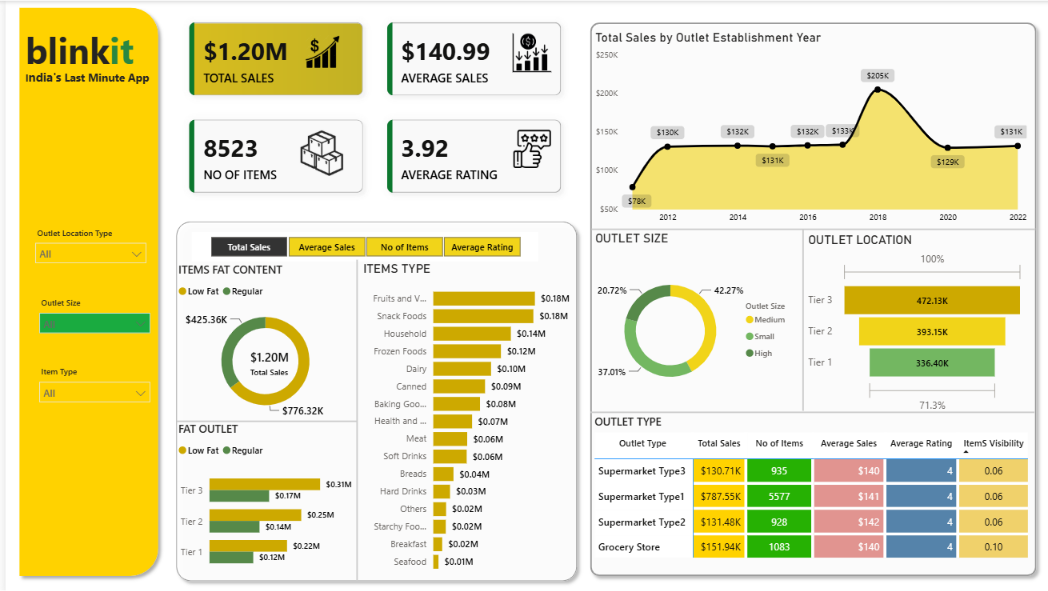

What the dashboard file says about the page in this screenshot:
{"tool":"powerbi","page":{"name":"BLINKIT DASHBOARD","canvas":[1400,800],"ordinal":0},"visuals":[{"type":"shape","box":[10,0,204.3,780],"z":0},{"type":"textbox","box":[22,28,178,80],"z":1000},{"type":"textbox","box":[22,86,192,44],"z":2000},{"type":"cardVisual","fields":{"Data":["BlinkIT Grocery Data.Total Sales","BlinkIT Grocery Data.Average Sales","BlinkIT Grocery Data.No of Items","BlinkIT Grocery Data.Average Rating"]},"box":[217.2,0,557.6,286.9],"z":3000},{"type":"shape","box":[220,287.5,555,500],"z":4000},{"type":"slicer","fields":{"Values":["METRICES.METRICES"]},"box":[250,310,465,40],"z":5000},{"type":"donutChart","title":"ITEMS FAT CONTENT","fields":{"Y":["BlinkIT Grocery Data.Total Sales"],"Category":["BlinkIT Grocery Data.Item Fat Content"]},"box":[226.5,349.9,244,218.5],"z":6000},{"type":"cardVisual","fields":{"Data":["BlinkIT Grocery Data.Total Sales"]},"box":[298.6,451.4,111.4,67.1],"z":7000},{"type":"clusteredBarChart","title":"FAT OUTLET","fields":{"Y":["BlinkIT Grocery Data.Total Sales"],"Series":["BlinkIT Grocery Data.Item Fat Content"],"Category":["BlinkIT Grocery Data.Outlet Location Type"]},"box":[226.5,563,245.3,214.5],"z":8000},{"type":"shape","box":[229.2,549.6,242.6,28.2],"z":9000},{"type":"shape","box":[462.5,347.2,17.4,430.3],"z":10000},{"type":"barChart","title":"ITEMS TYPE","fields":{"Y":["BlinkIT Grocery Data.Total Sales"],"Category":["BlinkIT Grocery Data.Item Type"]},"box":[475,348,286.9,427.6],"z":11000},{"type":"shape","box":[774.8,20.1,616,760.1],"z":12000},{"type":"lineChart","fields":{"Category":["BlinkIT Grocery Data.Outlet Establishment Year"],"Y":["BlinkIT Grocery Data.Total Sales"]},"box":[785.5,38.9,588.5,268.1],"z":13000},{"type":"shape","box":[785.5,297.6,595,17.4],"z":14000},{"type":"donutChart","title":" OUTLET SIZE","fields":{"Y":["BlinkIT Grocery Data.Total Sales"],"Category":["BlinkIT Grocery Data.Outlet Size"]},"box":[785.5,308.3,285.5,249.3],"z":15000},{"type":"funnel","title":"OUTLET LOCATION","fields":{"Y":["Sum(BlinkIT Grocery Data.Sales)"],"Category":["BlinkIT Grocery Data.Outlet Location Type"]},"box":[1071.1,309.7,298.9,248],"z":16000},{"type":"pivotTable","title":"OUTLET TYPE","fields":{"Values":["BlinkIT Grocery Data.Total Sales","BlinkIT Grocery Data.No of Items","BlinkIT Grocery Data.Average Sales","BlinkIT Grocery Data.Average Rating","Avg(BlinkIT Grocery Data.Item Visibility)"],"Rows":["BlinkIT Grocery Data.Outlet Type"]},"box":[790,554,585,215],"z":17000},{"type":"slicer","fields":{"Values":["BlinkIT Grocery Data.Outlet Location Type"]},"box":[29,298.3,168.9,66],"z":18000},{"type":"slicer","fields":{"Values":["BlinkIT Grocery Data.Outlet Size"]},"box":[34.3,393.3,168.9,66],"z":19000},{"type":"slicer","fields":{"Values":["BlinkIT Grocery Data.Item Type"]},"box":[34.3,485.7,168.9,66],"z":20000},{"type":"shape","box":[1060.3,305.6,17.4,244],"z":21000},{"type":"shape","box":[784,543,595,17.4],"z":22000},{"type":"image","box":[386.1,172.9,76.4,61.7],"z":23000},{"type":"image","box":[400.8,38.9,48.3,59],"z":24000},{"type":"image","box":[674.3,172.9,63,50.9],"z":25000},{"type":"image","box":[679.6,38.9,52.3,61.7],"z":26000}]}

Visuals, with their boxes in screenshot pixels (x1, y1, x2, y2), scaled from the page's 1400x800 canvas onto the 1048x591 screenshot:
shape: {"left": 7, "top": 0, "right": 160, "bottom": 576}
textbox: {"left": 16, "top": 21, "right": 150, "bottom": 80}
textbox: {"left": 16, "top": 64, "right": 160, "bottom": 96}
cardVisual - BlinkIT Grocery Data.Total Sales x BlinkIT Grocery Data.Average Sales: {"left": 163, "top": 0, "right": 580, "bottom": 212}
shape: {"left": 165, "top": 212, "right": 580, "bottom": 582}
slicer - METRICES.METRICES: {"left": 187, "top": 229, "right": 535, "bottom": 259}
"ITEMS FAT CONTENT" donutChart: {"left": 170, "top": 258, "right": 352, "bottom": 420}
cardVisual - BlinkIT Grocery Data.Total Sales: {"left": 224, "top": 333, "right": 307, "bottom": 383}
"FAT OUTLET" clusteredBarChart: {"left": 170, "top": 416, "right": 353, "bottom": 574}
shape: {"left": 172, "top": 406, "right": 353, "bottom": 427}
shape: {"left": 346, "top": 256, "right": 359, "bottom": 574}
"ITEMS TYPE" barChart: {"left": 356, "top": 257, "right": 570, "bottom": 573}
shape: {"left": 580, "top": 15, "right": 1041, "bottom": 576}
lineChart - BlinkIT Grocery Data.Outlet Establishment Year x BlinkIT Grocery Data.Total Sales: {"left": 588, "top": 29, "right": 1029, "bottom": 227}
shape: {"left": 588, "top": 220, "right": 1033, "bottom": 233}
" OUTLET SIZE" donutChart: {"left": 588, "top": 228, "right": 802, "bottom": 412}
"OUTLET LOCATION" funnel: {"left": 802, "top": 229, "right": 1026, "bottom": 412}
"OUTLET TYPE" pivotTable: {"left": 591, "top": 409, "right": 1029, "bottom": 568}
slicer - BlinkIT Grocery Data.Outlet Location Type: {"left": 22, "top": 220, "right": 148, "bottom": 269}
slicer - BlinkIT Grocery Data.Outlet Size: {"left": 26, "top": 291, "right": 152, "bottom": 339}
slicer - BlinkIT Grocery Data.Item Type: {"left": 26, "top": 359, "right": 152, "bottom": 408}
shape: {"left": 794, "top": 226, "right": 807, "bottom": 406}
shape: {"left": 587, "top": 401, "right": 1032, "bottom": 414}
image: {"left": 289, "top": 128, "right": 346, "bottom": 173}
image: {"left": 300, "top": 29, "right": 336, "bottom": 72}
image: {"left": 505, "top": 128, "right": 552, "bottom": 165}
image: {"left": 509, "top": 29, "right": 548, "bottom": 74}
